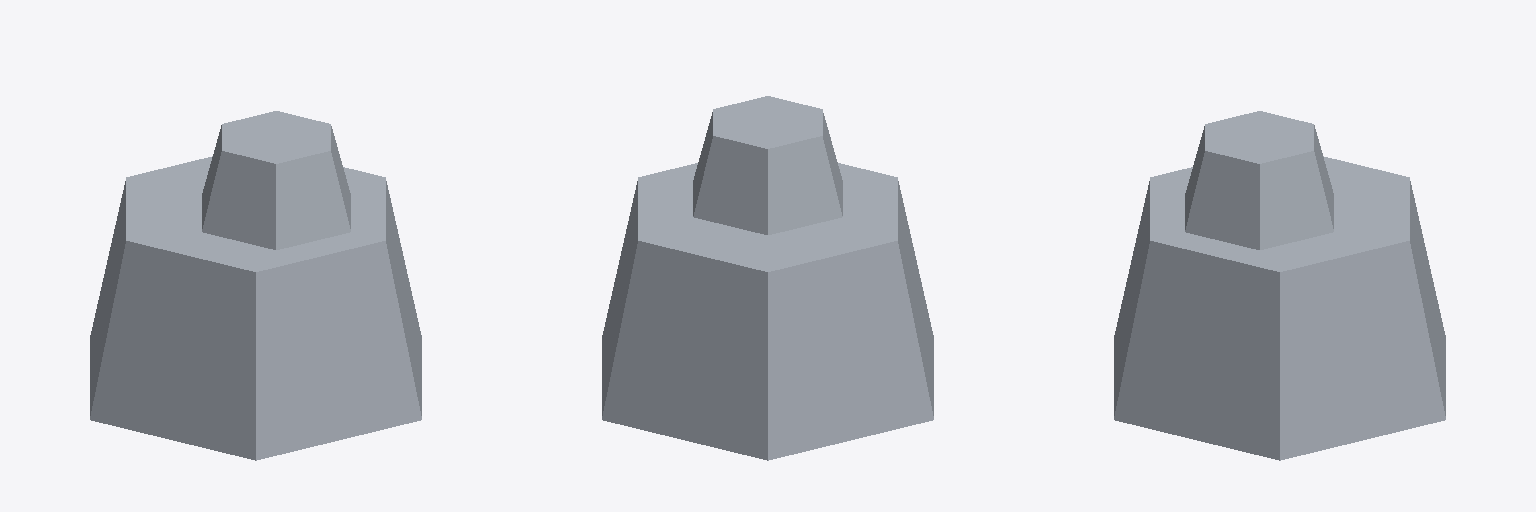
3 renders of one model, left to right at view 1: azimuth 30°, elevation 25°; view 2: azimuth 150°, elevation 25°; view 3: azimuth 270°, elevation 25°, orthographic.
Visible parts, largest first — view 1: Mesh1 Rock_2 Model; view 2: Mesh1 Rock_2 Model; view 3: Mesh1 Rock_2 Model.
Part boxes in pixels (x1,y1,x2,y2): Mesh1 Rock_2 Model: (90,111,421,460); Mesh1 Rock_2 Model: (602,96,933,460); Mesh1 Rock_2 Model: (1114,111,1445,460).
Size of the model in its own units: 1 by 0.71 by 0.866.
1 materials, 1 textured.